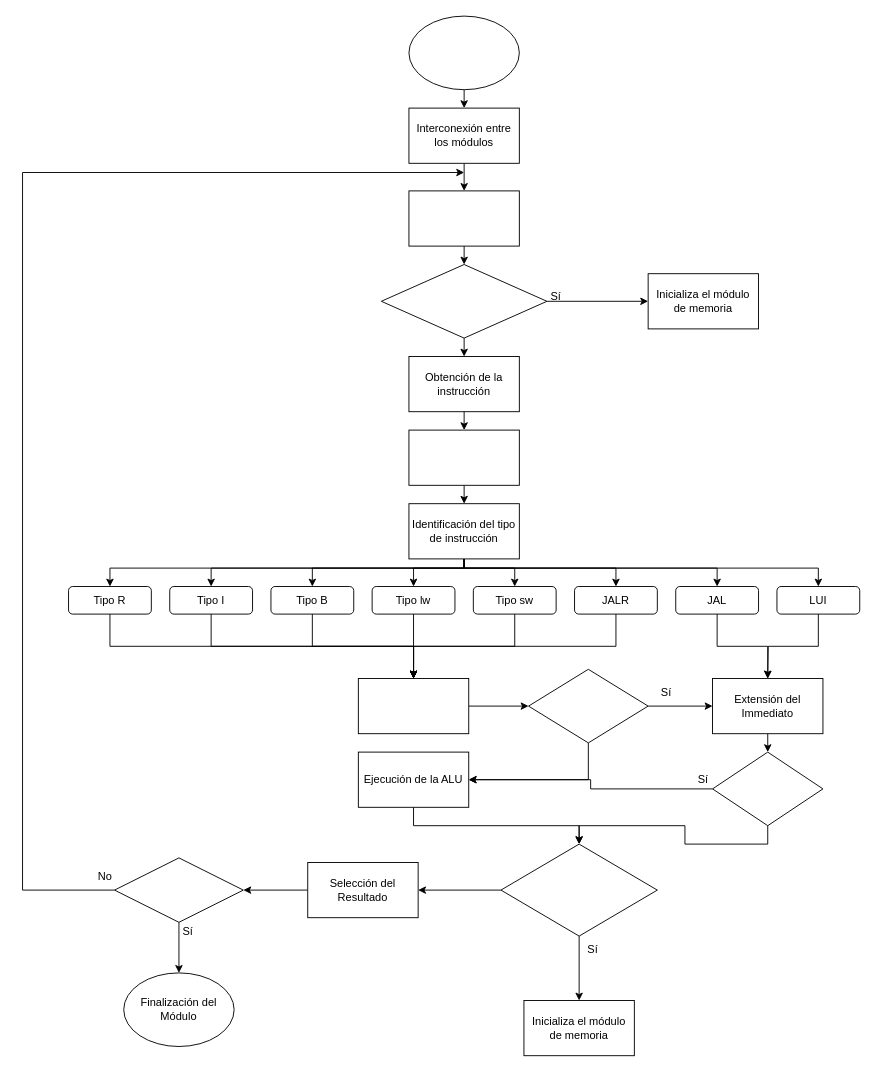
Some shapes in this 876 by 1072 pixel diagram are drawn without their labels. Each missing label, with the centre of its shape:
"Cargar dato de la Memoria" belongs at point (578, 889).
"Cargar dato desde Memoria" belongs at point (463, 301).
"Inicio de la decodificación de la ALU" belongs at point (413, 706).
"Inicio de la decodificación en unidad de control" belongs at point (463, 457).
"Inicio del Módulo" belongs at point (463, 52).
"Lógica de PC" belongs at point (463, 218).
"¿Opera en la ALU?" belongs at point (767, 788).
"¿Se necesita el immediato?" belongs at point (588, 705).
"Última Instrucción" belongs at point (178, 889).
